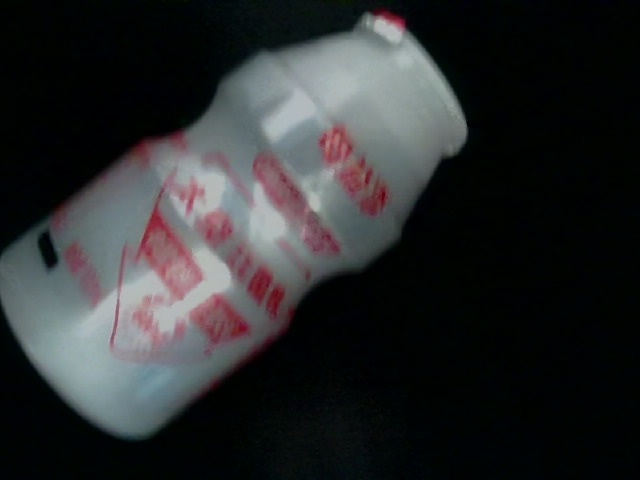CYLJ: (204, 321, 316, 436)
